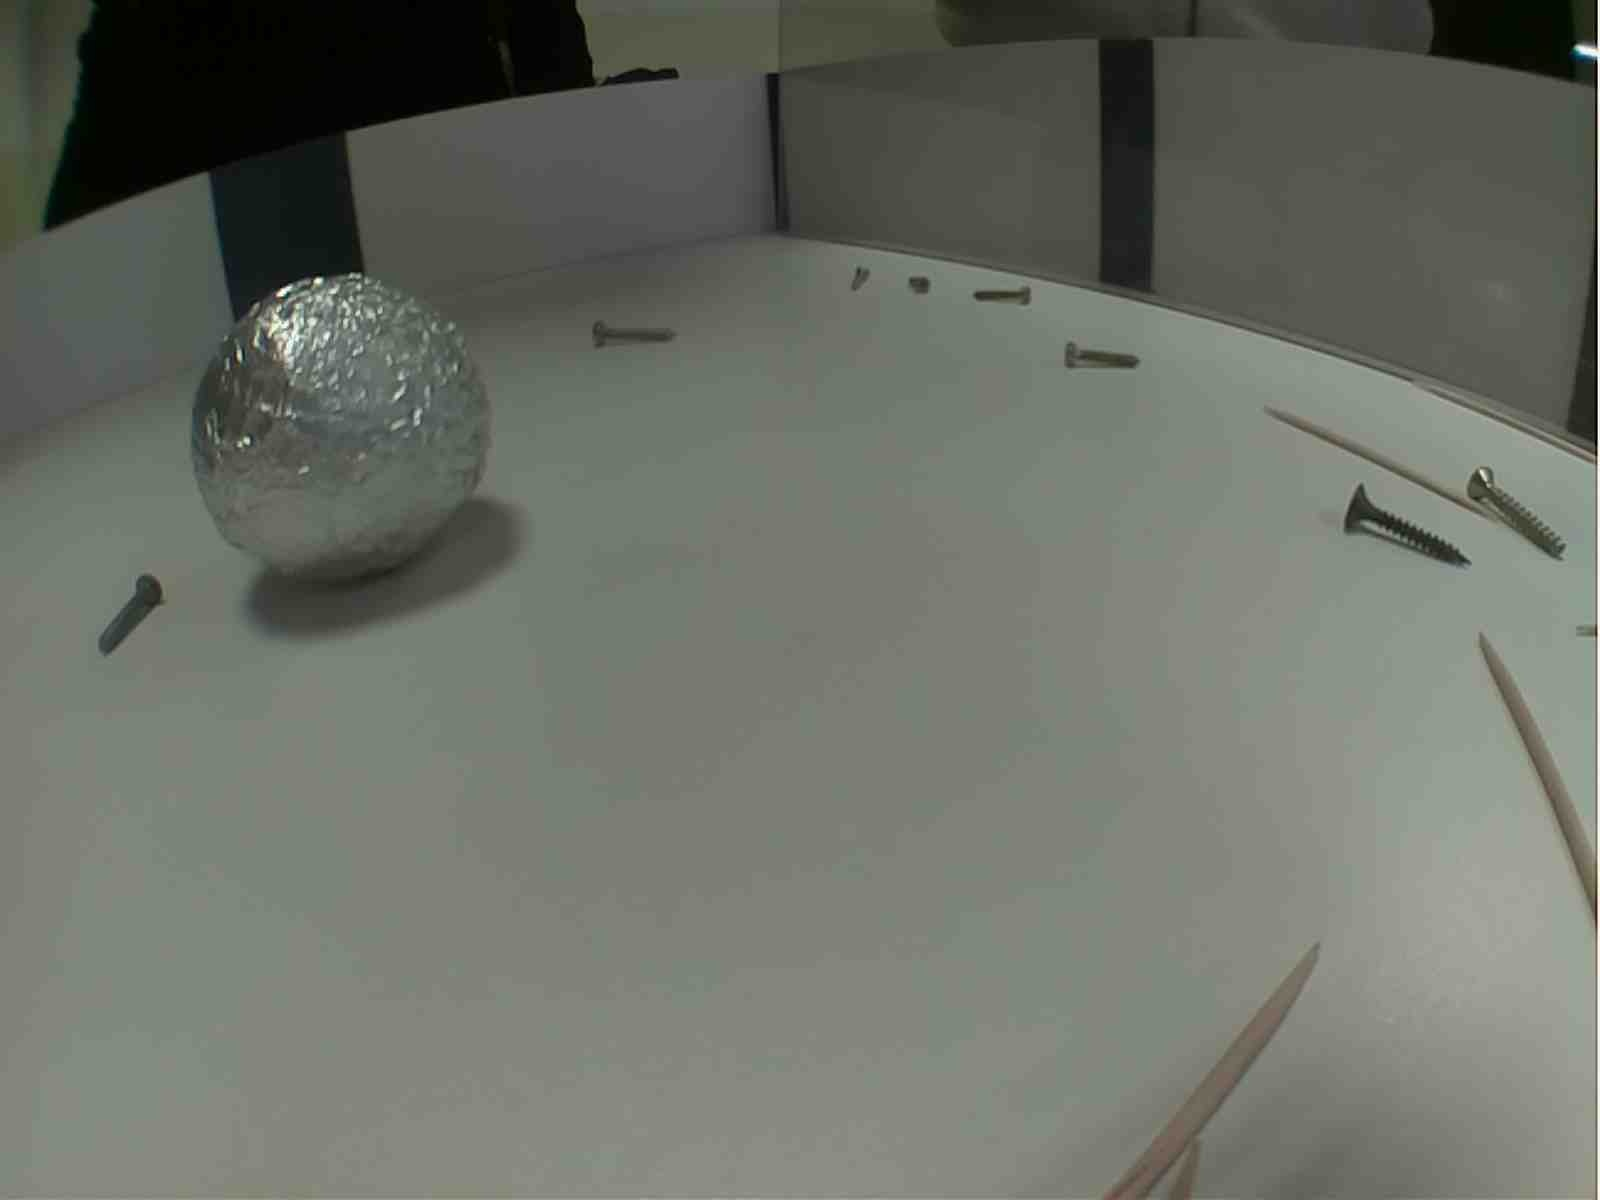bianca: (185, 272, 496, 584)
